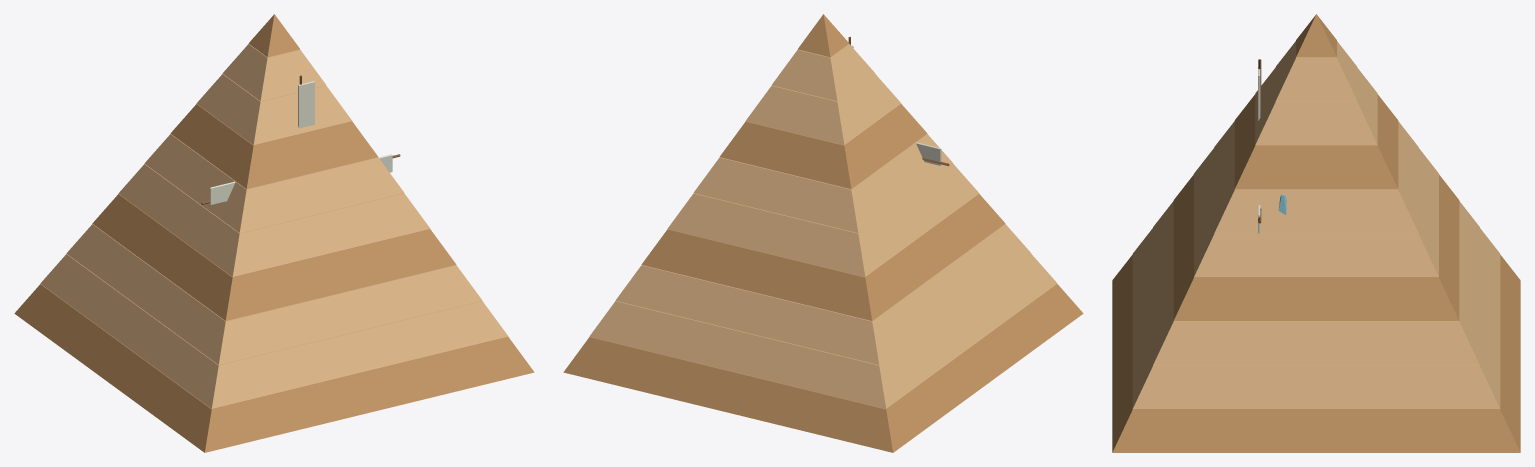
Rendered from models.glb.
3 views of the same model, side by side, from view 1: azimuth 30°, elevation 25°; view 2: azimuth 150°, elevation 25°; view 3: azimuth 270°, elevation 25° (orthographic). The views are drawn at different scales.
Visible parts, largest first — view 1: Pyramid • stone course, Pyramid • stone course.001, Pyramid • stone course.002, Pyramid • stone course.003, Pyramid • stone course.004, Pyramid • stone course.005, Pyramid • stone course.006, Pyramid • stone course.007, Pyramid • stone course.008, Pyramid • stone course.009, Mill • canvas sail; view 2: Pyramid • stone course, Pyramid • stone course.001, Pyramid • stone course.002, Pyramid • stone course.003, Pyramid • stone course.004, Pyramid • stone course.005, Pyramid • stone course.006, Pyramid • stone course.007, Pyramid • stone course.008, Pyramid • stone course.009; view 3: Pyramid • stone course, Pyramid • stone course.001, Pyramid • stone course.002, Pyramid • stone course.003, Pyramid • stone course.004, Pyramid • stone course.005, Pyramid • stone course.006, Pyramid • stone course.007, Pyramid • stone course.008, Pyramid • stone course.009.
Boxes of the visible parts, x1,y1,x2,y2 form: Pyramid • stone course: [14, 284, 534, 452]; Pyramid • stone course.001: [40, 254, 508, 408]; Pyramid • stone course.002: [66, 224, 482, 364]; Pyramid • stone course.003: [92, 194, 456, 320]; Pyramid • stone course.004: [118, 164, 430, 276]; Pyramid • stone course.005: [144, 134, 404, 232]; Pyramid • stone course.006: [170, 104, 377, 189]; Pyramid • stone course.007: [196, 74, 352, 145]; Pyramid • stone course.008: [222, 44, 325, 101]; Pyramid • stone course.009: [248, 14, 299, 57]; Mill • canvas sail: [298, 81, 314, 128]; Pyramid • stone course: [563, 284, 1083, 452]; Pyramid • stone course.001: [589, 254, 1057, 408]; Pyramid • stone course.002: [615, 224, 1031, 364]; Pyramid • stone course.003: [641, 194, 1005, 320]; Pyramid • stone course.004: [667, 164, 979, 276]; Pyramid • stone course.005: [693, 134, 953, 232]; Pyramid • stone course.006: [720, 104, 927, 189]; Pyramid • stone course.007: [745, 74, 901, 145]; Pyramid • stone course.008: [772, 44, 875, 101]; Pyramid • stone course.009: [798, 14, 849, 57]; Pyramid • stone course: [1112, 255, 1520, 452]; Pyramid • stone course.001: [1132, 228, 1500, 408]; Pyramid • stone course.002: [1153, 201, 1479, 364]; Pyramid • stone course.003: [1173, 174, 1459, 320]; Pyramid • stone course.004: [1194, 148, 1438, 276]; Pyramid • stone course.005: [1214, 121, 1418, 233]; Pyramid • stone course.006: [1234, 94, 1398, 189]; Pyramid • stone course.007: [1255, 68, 1377, 145]; Pyramid • stone course.008: [1275, 41, 1357, 101]; Pyramid • stone course.009: [1296, 14, 1336, 57].
Bounding box in the file's own units: 22 × 22.38 × 22.
